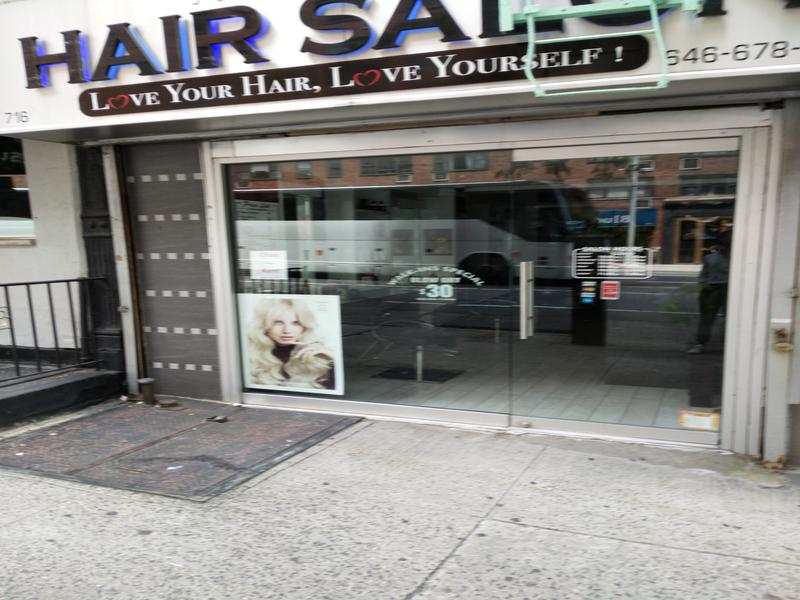door: (507, 142, 742, 444)
